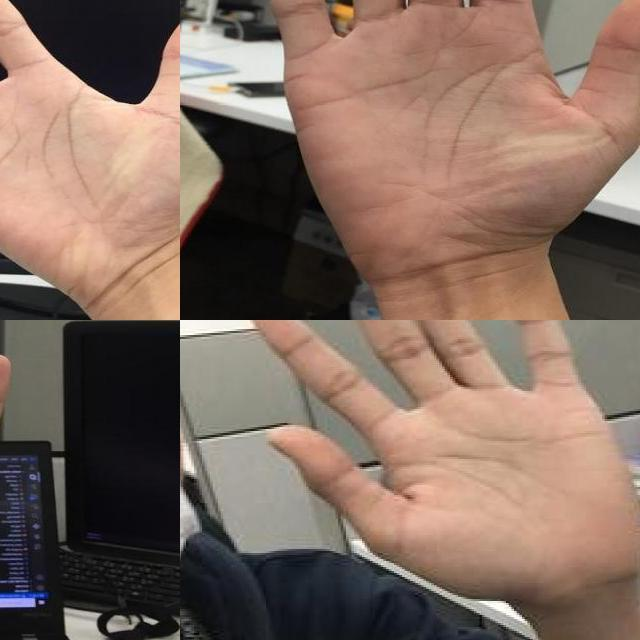hand: (255, 320, 640, 599), (260, 0, 640, 280), (0, 0, 180, 294)
